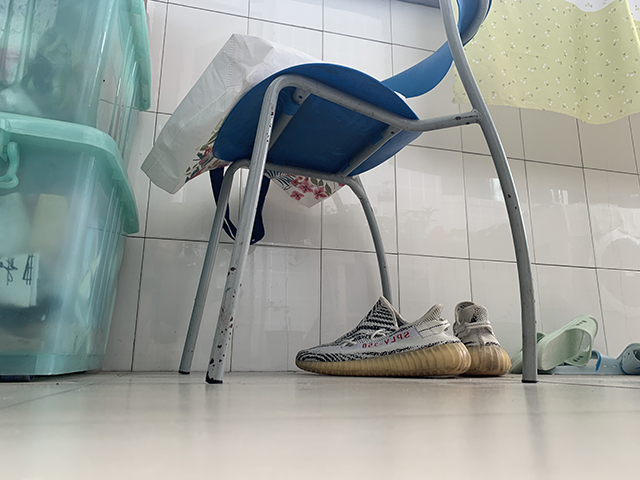slippers: (530, 314, 600, 371), (548, 350, 619, 377)
stool: (168, 1, 531, 385)
